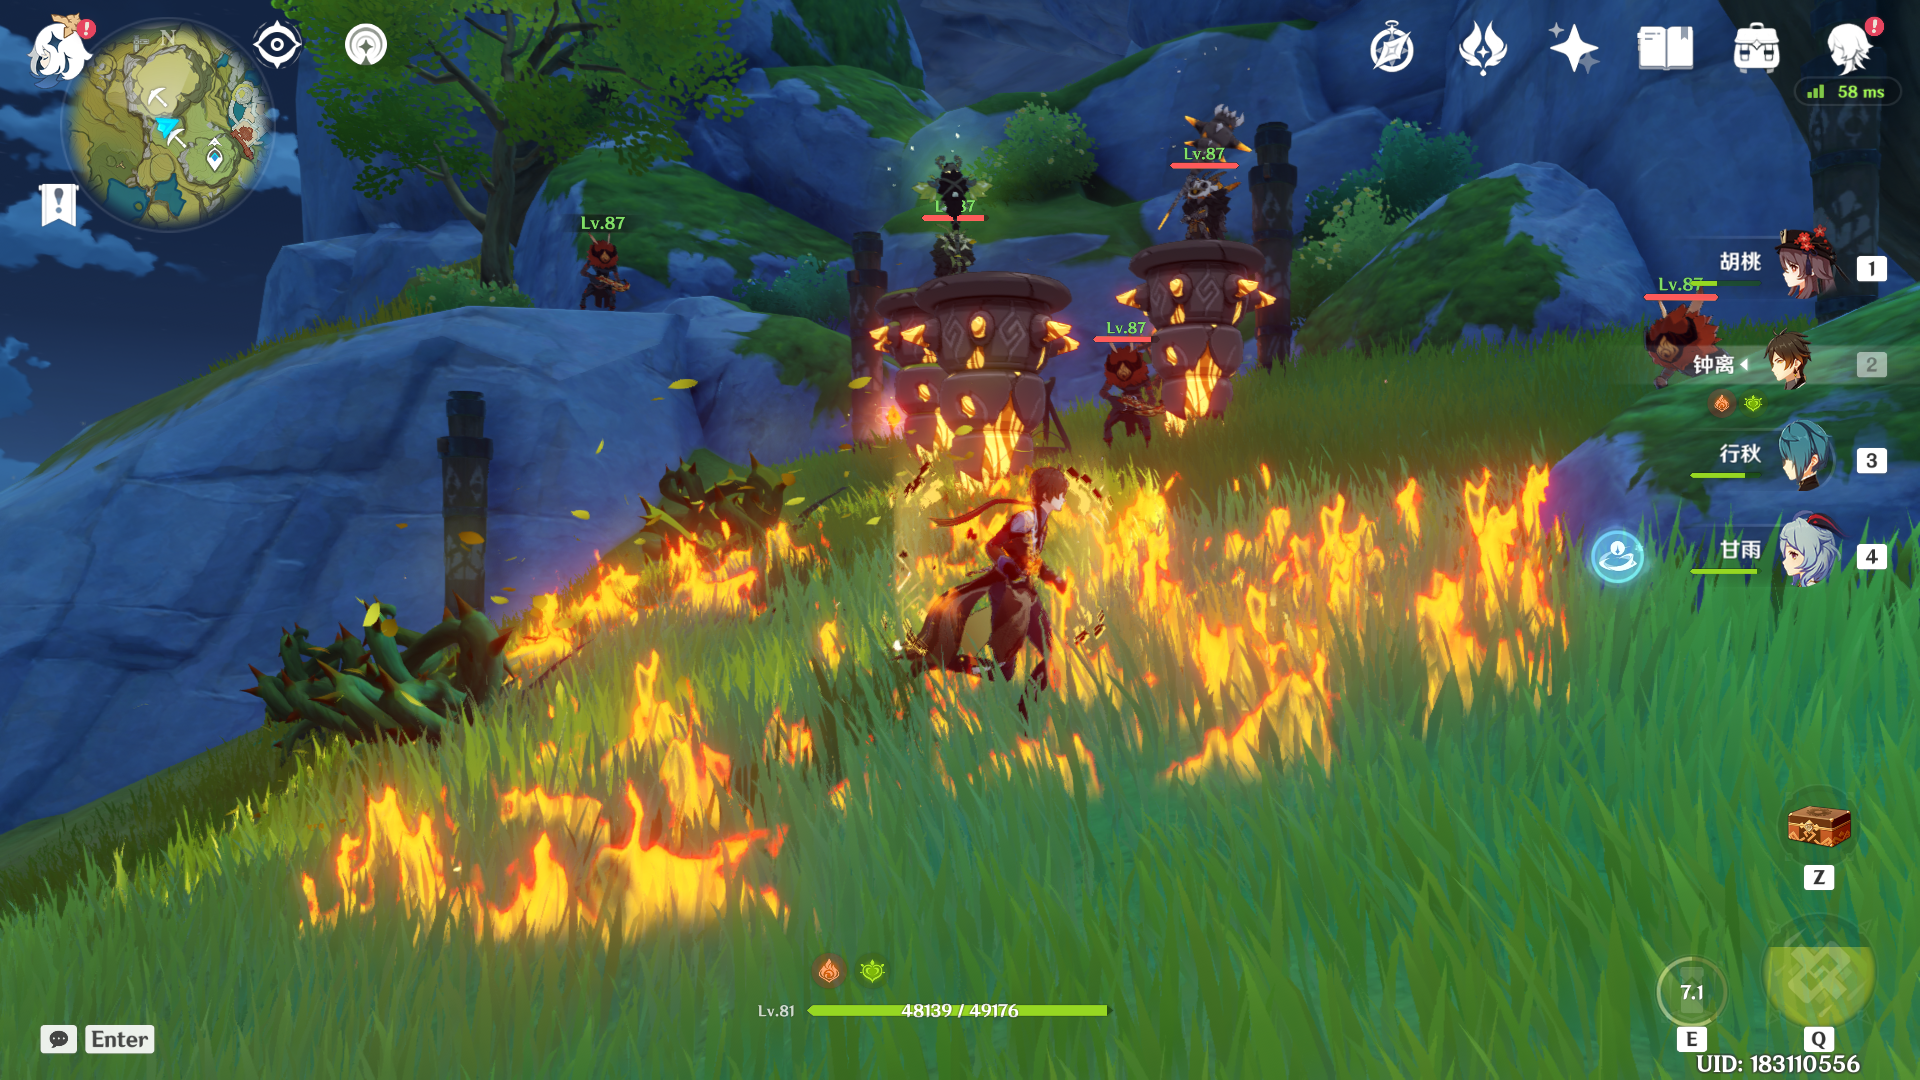character: (907, 455, 1158, 745)
hili: (1122, 84, 1257, 272), (1611, 262, 1738, 419), (1072, 319, 1197, 456), (891, 149, 997, 295), (554, 227, 661, 324)
